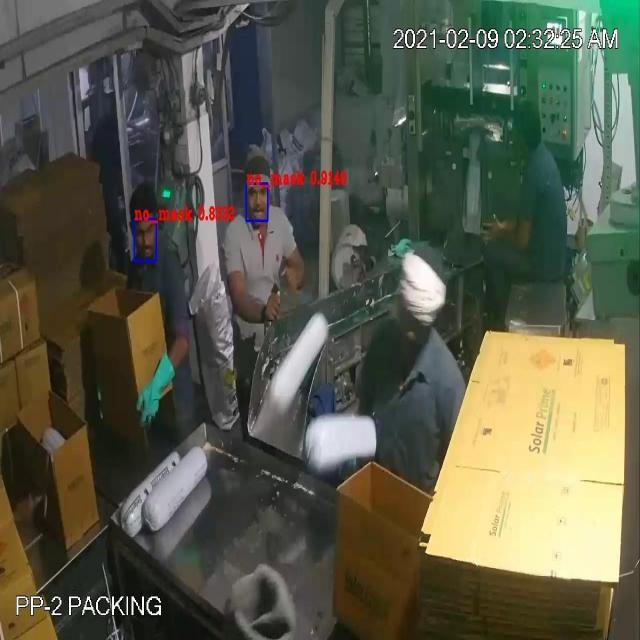Gloves: (38, 67, 510, 386)
